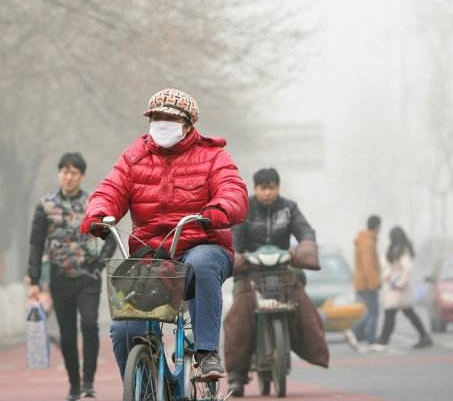person: (83, 86, 251, 382), (24, 150, 118, 401), (230, 167, 332, 395), (378, 223, 435, 353), (343, 211, 391, 354)
